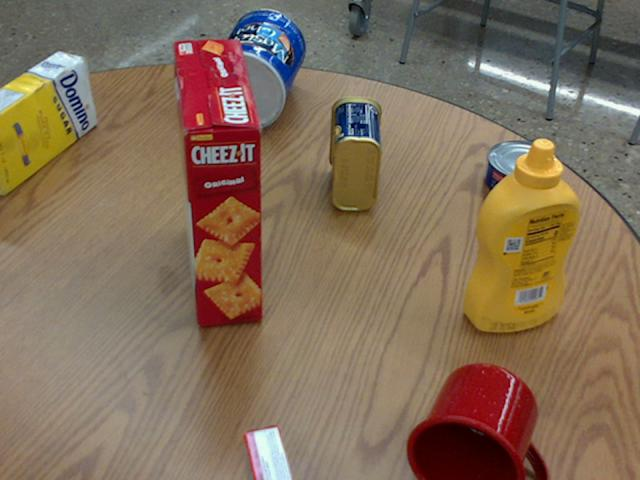cracker_box: (176, 42, 265, 325)
gelatin_box: (240, 427, 289, 479)
master_chef_can: (202, 9, 304, 129)
mug: (406, 364, 546, 479)
mustard_bottle: (462, 139, 580, 331)
potted_meat_can: (329, 96, 382, 210)
sugar_box: (0, 50, 95, 193)
tuna_fish_can: (483, 140, 559, 203)
